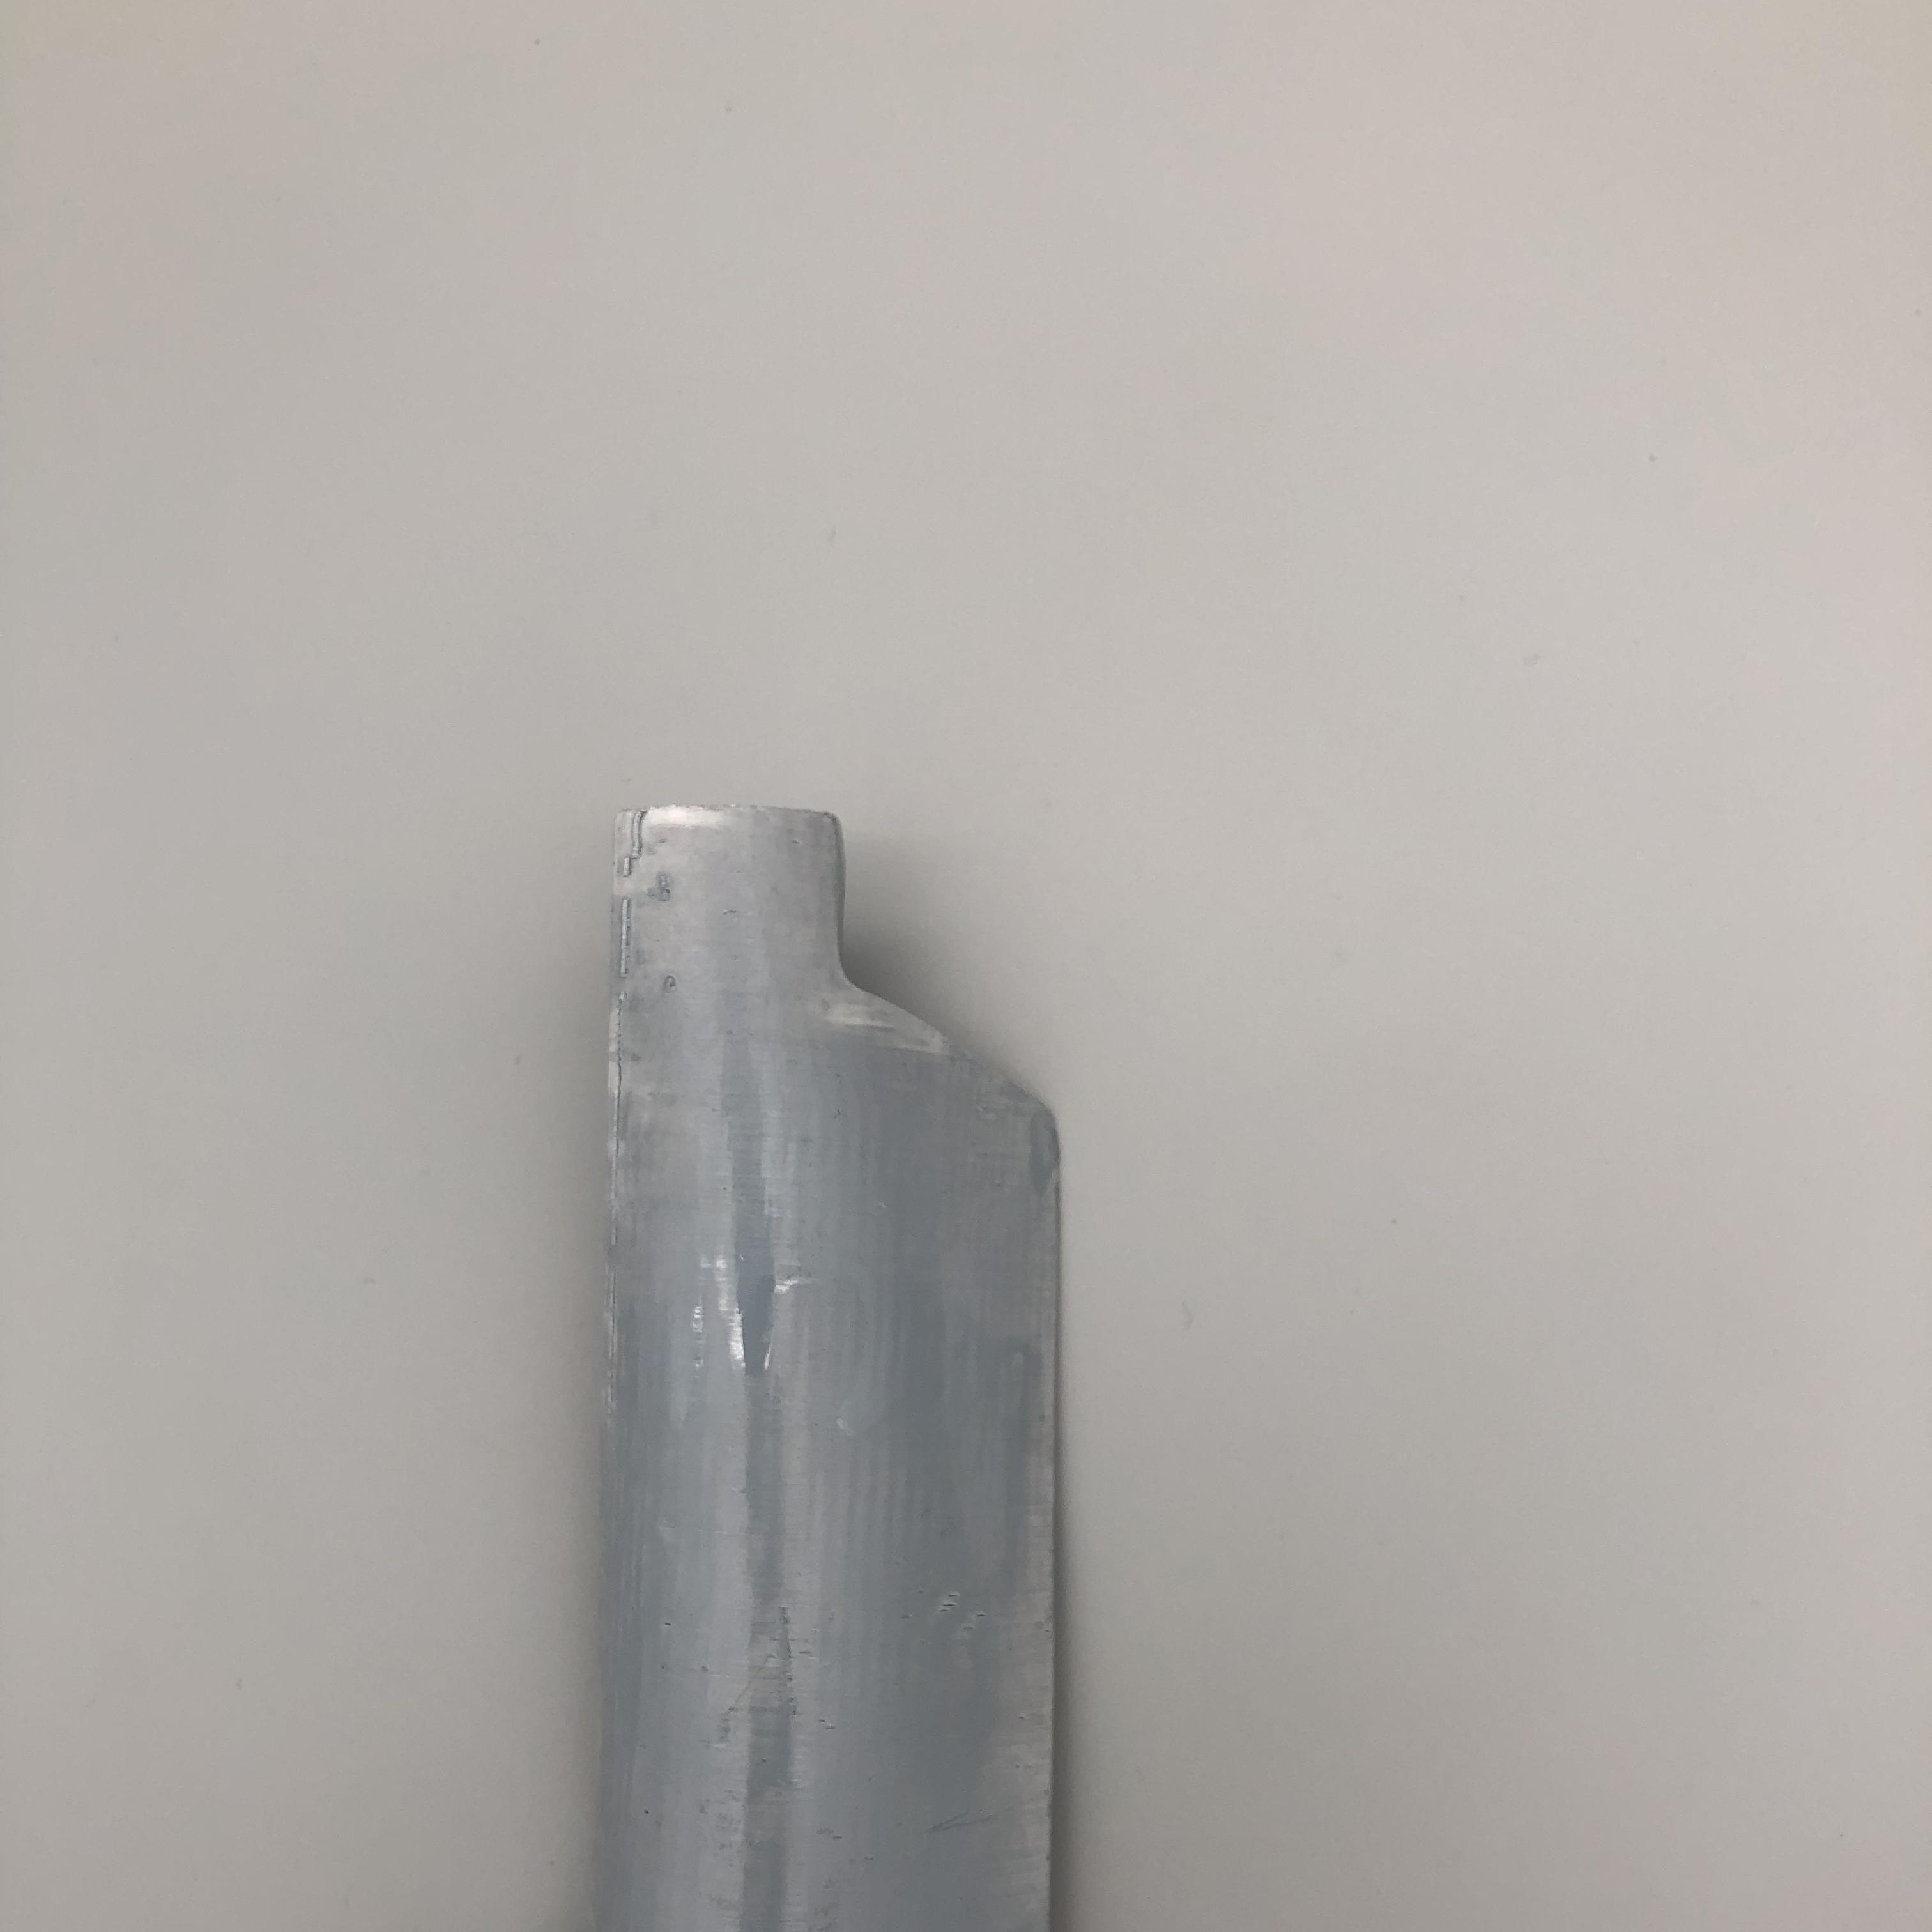fracture: (809, 814, 1079, 1123)
